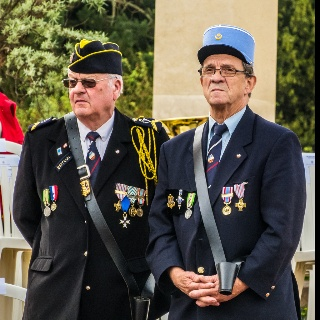without_mask: (67, 38, 121, 116), (197, 53, 257, 104)
